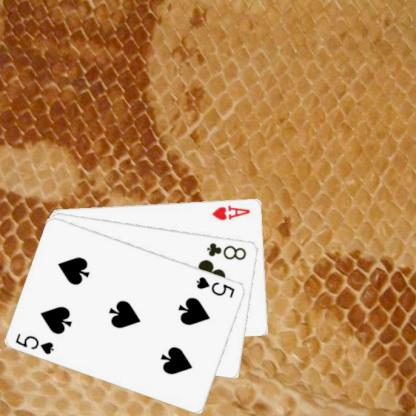5S: (194, 273, 237, 299), (13, 330, 56, 356)
8C: (204, 240, 248, 262)
AH: (209, 202, 252, 221)
